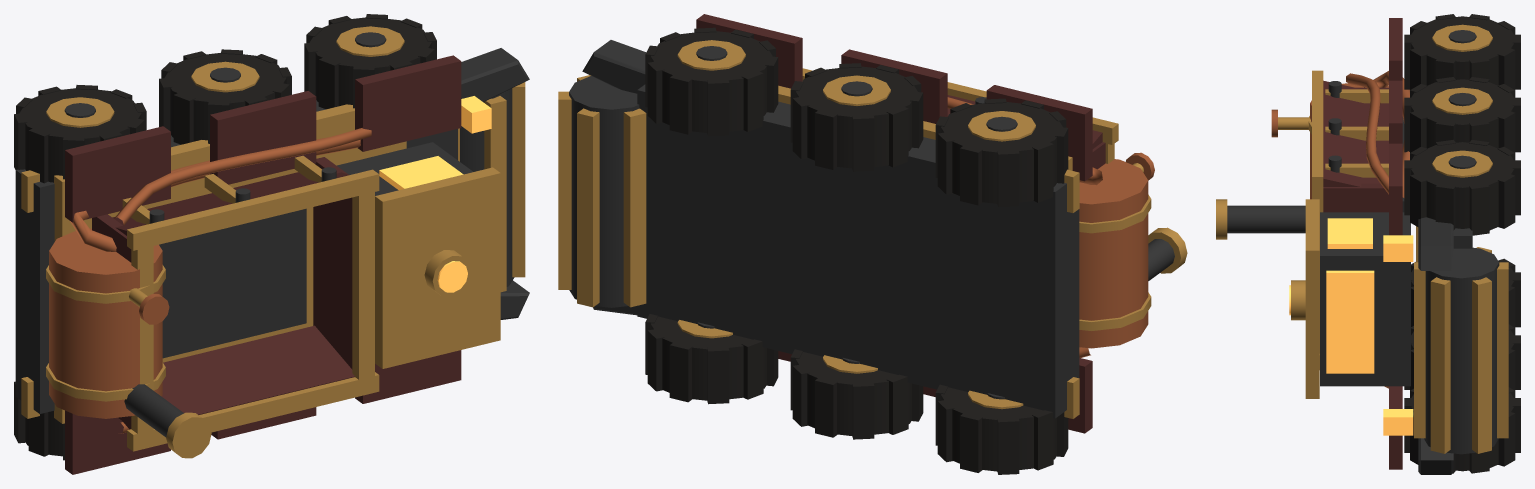
Rendered from harvester.glb.
3 views of the same model, side by side, from view 1: azimuth 30°, elevation 25°; view 2: azimuth 150°, elevation 25°; view 3: azimuth 270°, elevation 25° (orthographic). The views are drawn at different scales.
Parts seen in each view (by area): view 1: Harvester / steam ore collector, Mineral intake; view 2: Harvester / steam ore collector, Mineral intake; view 3: Harvester / steam ore collector, Mineral intake.
Boxes of the visible parts, x1,y1,x2,y2 form: Harvester / steam ore collector: [14, 14, 529, 474]; Mineral intake: [458, 82, 525, 292]; Harvester / steam ore collector: [582, 14, 1187, 474]; Mineral intake: [558, 75, 646, 307]; Harvester / steam ore collector: [1216, 14, 1520, 474]; Mineral intake: [1414, 247, 1508, 454].
Bounding box in the file's own units: 1.43 × 0.8636 × 0.8218.
